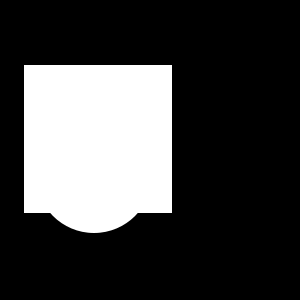circle: (24, 65, 172, 213), (57, 72, 172, 187)
rectangle: (36, 117, 152, 233), (25, 80, 44, 99)
triangle: (75, 84, 107, 116)
